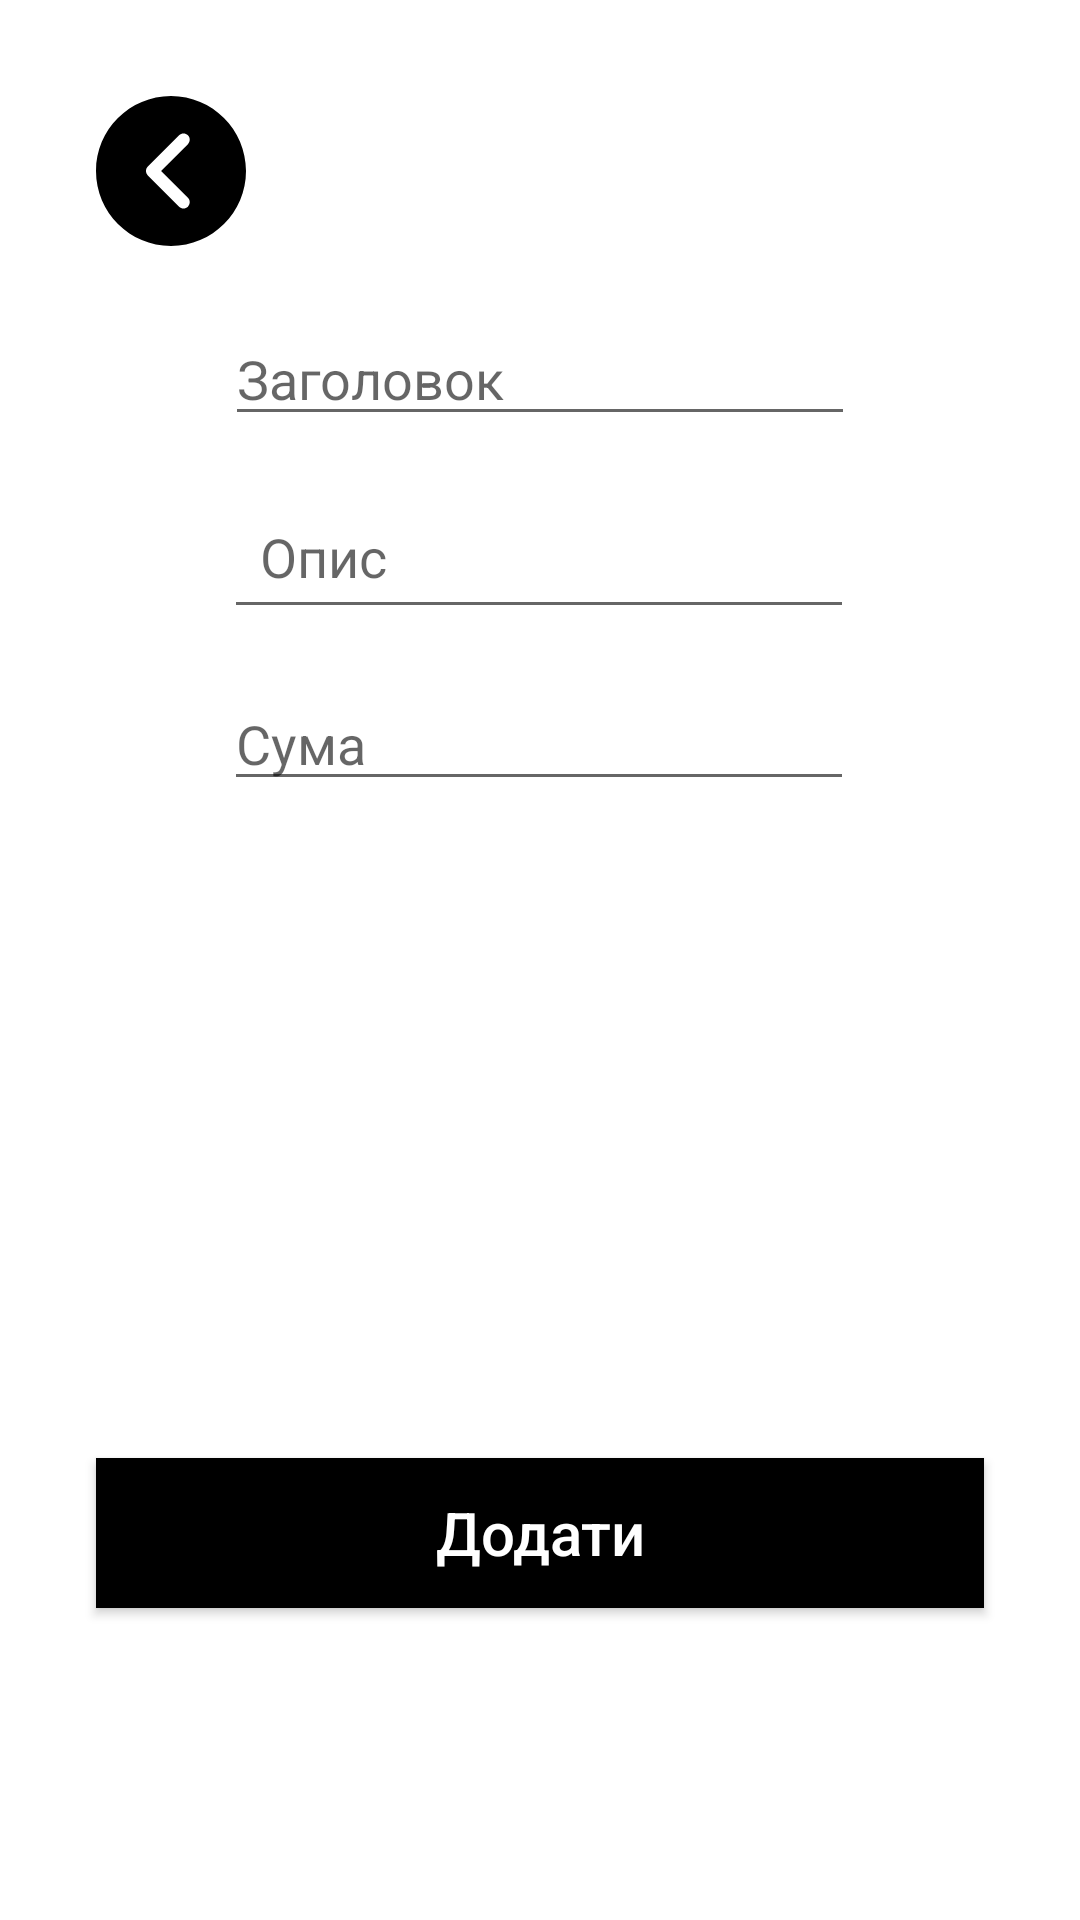

Where to tap for icons on this 1080 × 1920 app screen, as [x,y]:
left arrow: [171,171]
